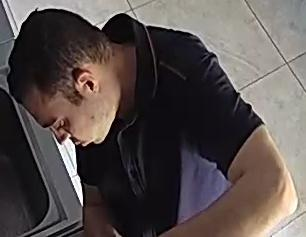no_apron: (68, 20, 226, 237)
